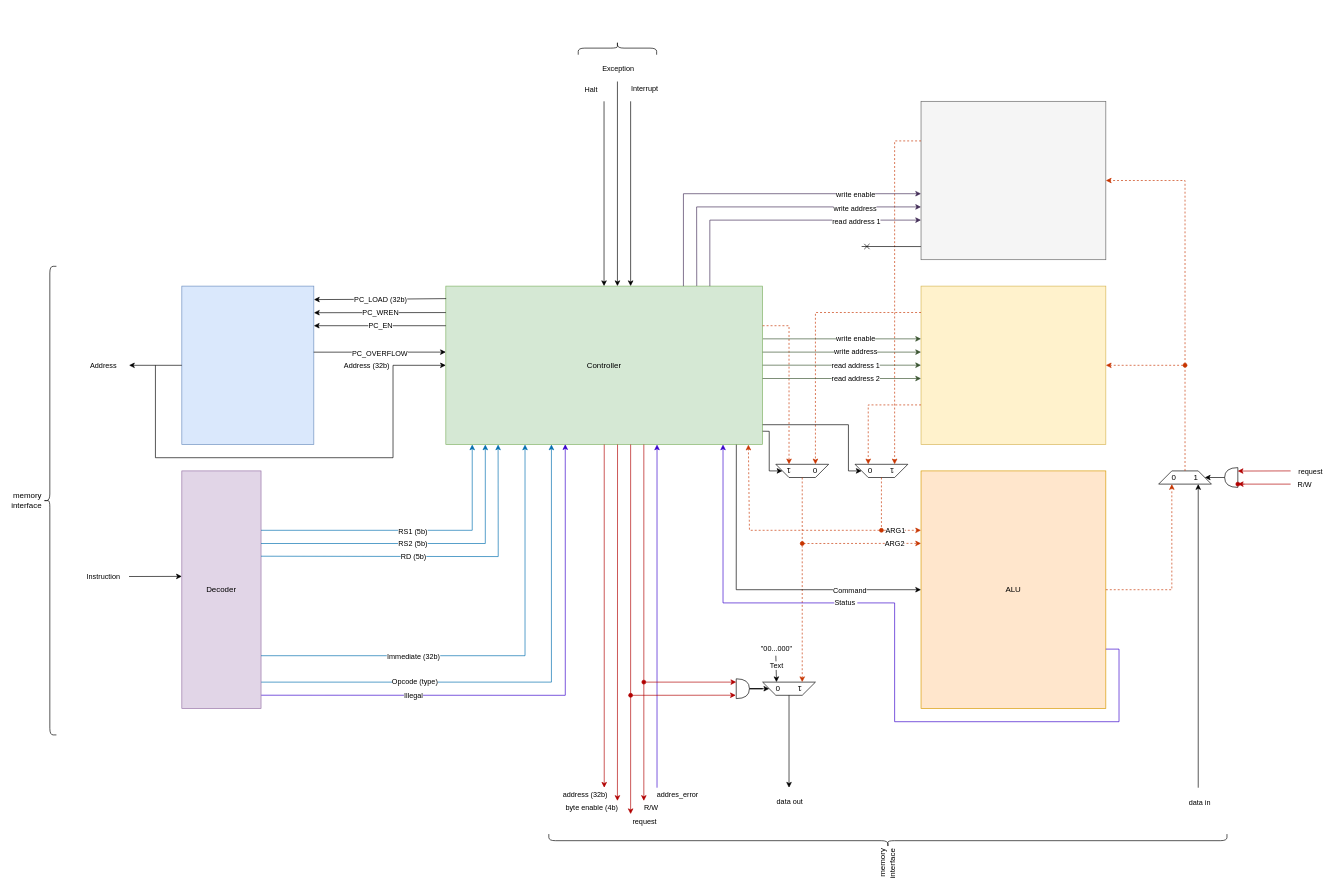
Image size: 1334x890. Some labels were removed from this diagram. Each missing label, with the centre of its shape:
CSR Register file: the point at 1013,180
External controls: the point at 617,48
Program counter: the point at 247,365
Register file: the point at 1013,365
